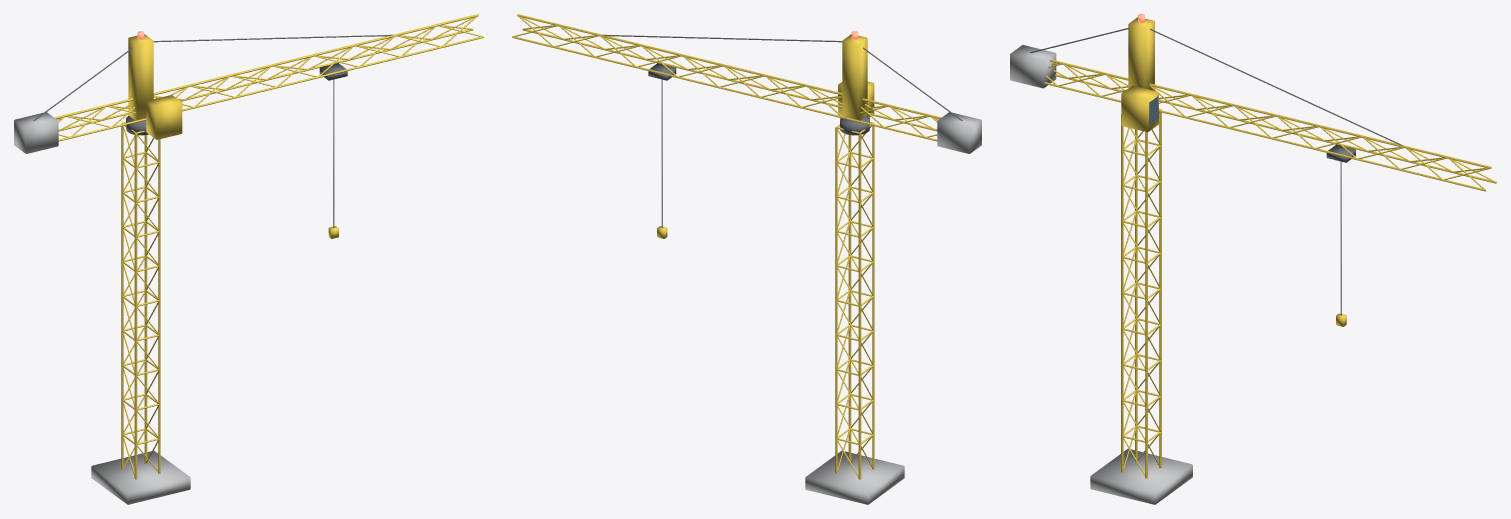
File: ext_tower_crane.glb
The picture shows the model from 3 angles, left to right: view 1: azimuth 30°, elevation 25°; view 2: azimuth 150°, elevation 25°; view 3: azimuth 330°, elevation 25°; orthographic projection. The views are drawn at different scales.
Visible parts, largest first — view 1: Jib, Mast; view 2: Jib, Mast; view 3: Jib, Mast.
Part boxes in pixels (<box>): Jib: <box>14,14,483,238</box>; Mast: <box>91,121,190,504</box>; Jib: <box>512,14,981,238</box>; Mast: <box>805,121,904,504</box>; Jib: <box>1010,14,1496,326</box>; Mast: <box>1090,108,1192,504</box>.
Bounding box in the file's own units: 33.32 × 31.35 × 4.6.
